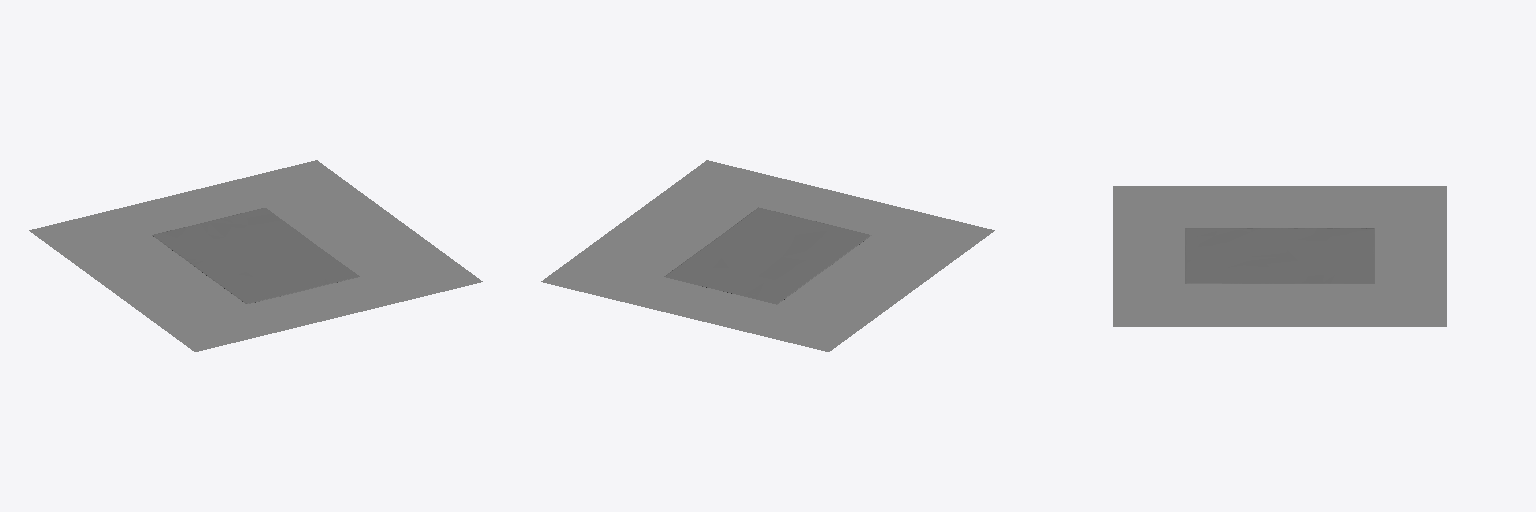
The model's file is BNGL7292_v6_LOD2.obj.
3 views of the same model, side by side, from view 1: azimuth 30°, elevation 25°; view 2: azimuth 150°, elevation 25°; view 3: azimuth 270°, elevation 25° (orthographic).
Visible parts, largest first — view 1: shadow_plane_v6, not_clear_obj_0_v6; view 2: shadow_plane_v6, not_clear_obj_0_v6; view 3: shadow_plane_v6, not_clear_obj_0_v6.
Part boxes in pixels (left/top/right/bottom): shadow_plane_v6: left=29, top=160, right=482, bottom=351; not_clear_obj_0_v6: left=153, top=208, right=358, bottom=303; shadow_plane_v6: left=541, top=160, right=994, bottom=351; not_clear_obj_0_v6: left=665, top=208, right=870, bottom=303; shadow_plane_v6: left=1113, top=186, right=1446, bottom=326; not_clear_obj_0_v6: left=1186, top=228, right=1373, bottom=283.
Bounding box in the file's own units: 404 × 0.6307 × 404.